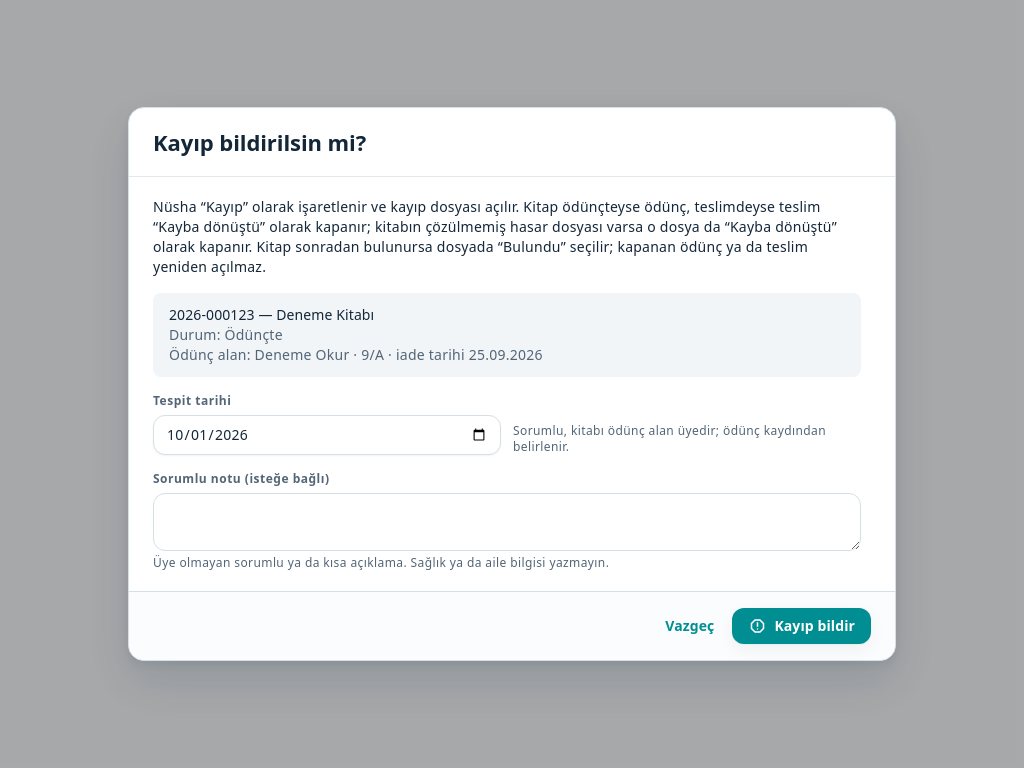
Scenario: DosyaAcDiyalogu — kayıp bildirimi › parola kurulmadan (409) kurulum yönlendirmesi gösterilir
Click the button "Kayıp bildir" at (802, 626), box 732,608 -> 871,644
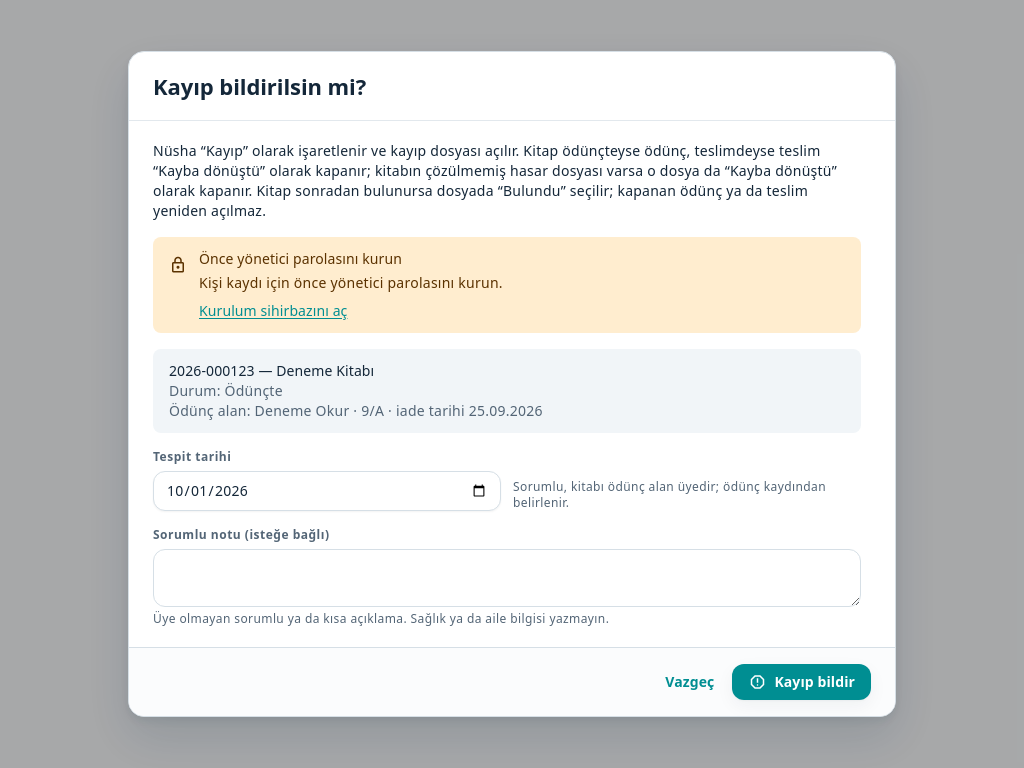
Check: the text "Önce yönetici parolasını kurun" is shown, box 199,249 -> 402,268
